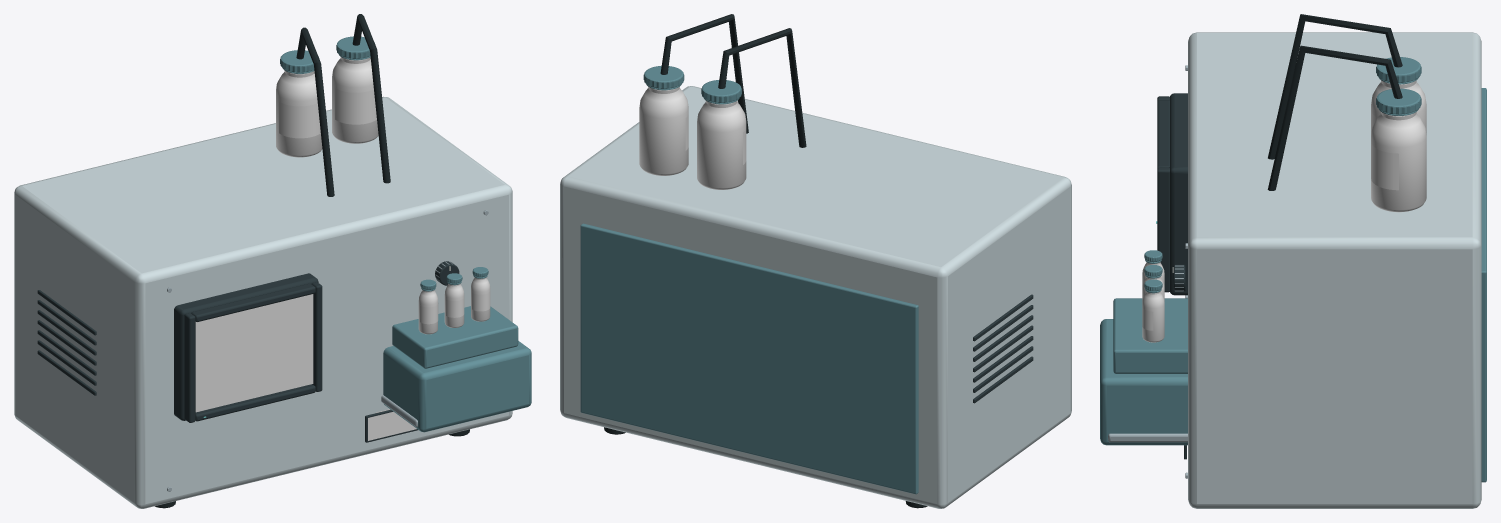
Rendered from ID_FlowCytometer.fbx.
3 views of the same model, side by side, from view 1: azimuth 30°, elevation 25°; view 2: azimuth 150°, elevation 25°; view 3: azimuth 270°, elevation 25° (orthographic). The views are drawn at different scales.
Visible parts, largest first — view 1: ID_FlowCytometer; view 2: ID_FlowCytometer; view 3: ID_FlowCytometer.
Boxes of the visible parts, x1,y1,x2,y2 form: ID_FlowCytometer: [14, 14, 531, 508]; ID_FlowCytometer: [560, 14, 1071, 508]; ID_FlowCytometer: [1100, 14, 1486, 508].
Bounding box in the file's own units: 94.5 × 88.61 × 72.5.
